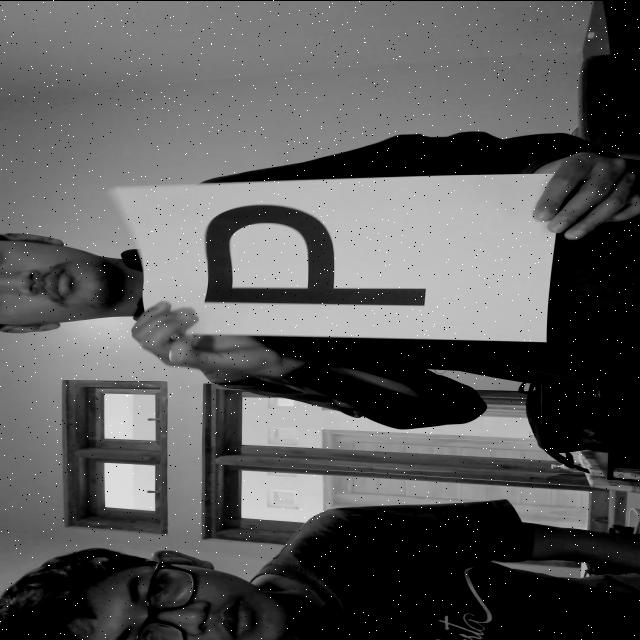p: (178, 190, 482, 313)
